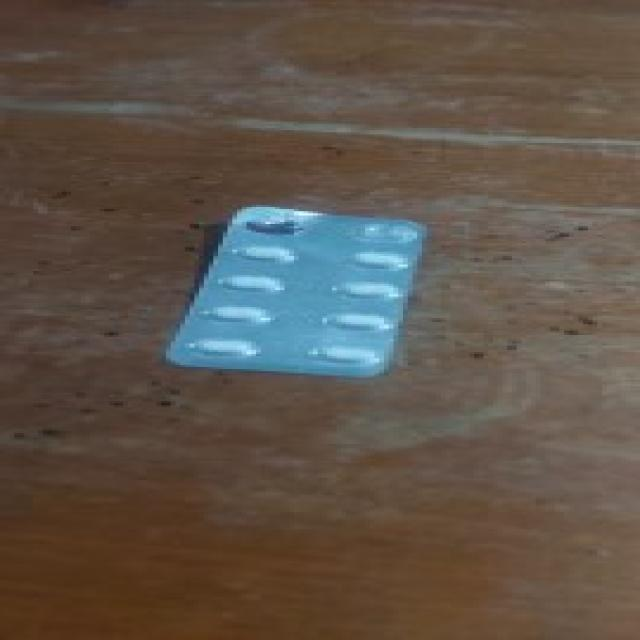Cacat: (159, 206, 429, 380)
Kemasan: (235, 217, 322, 245)
